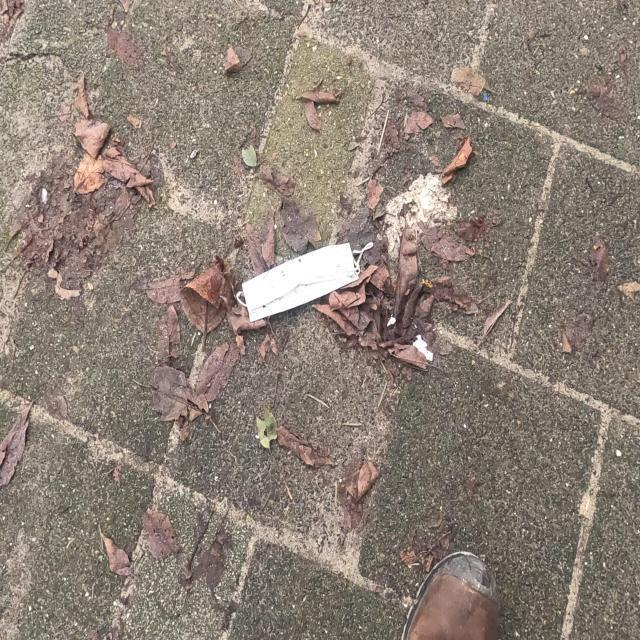Mask: (233, 240, 376, 327)
